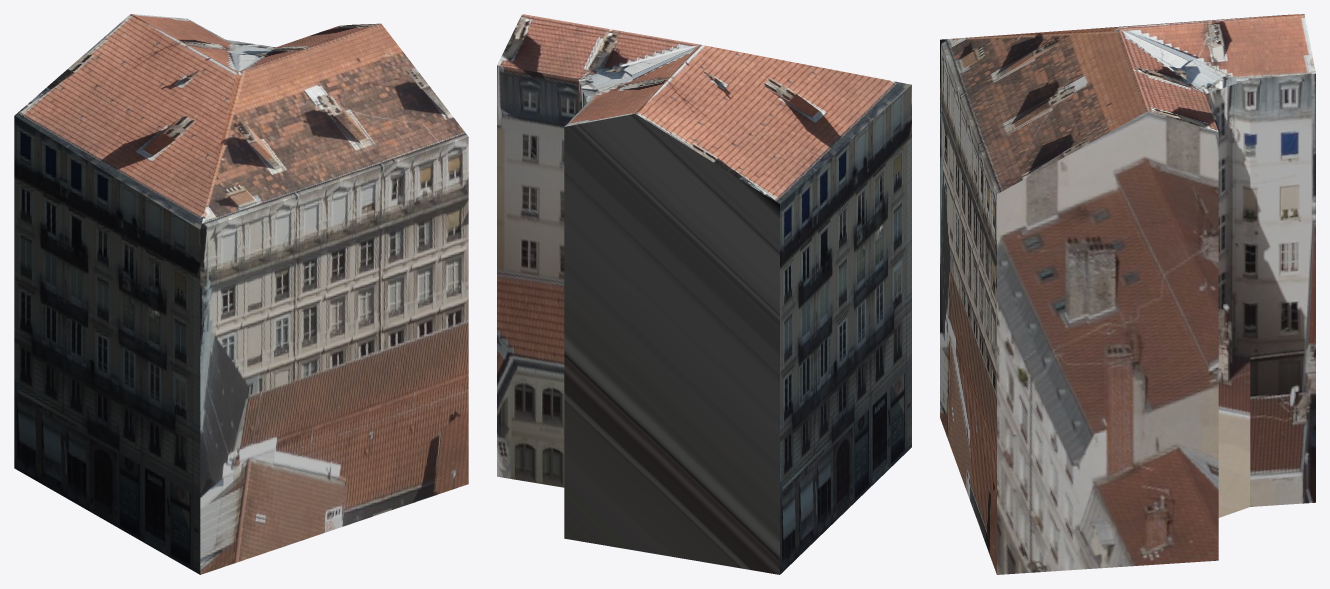
3 views of the same model, side by side, from view 1: azimuth 30°, elevation 25°; view 2: azimuth 150°, elevation 25°; view 3: azimuth 270°, elevation 25° (orthographic). The views are drawn at different scales.
Parts seen in each view (by area): view 1: Z_UP; view 2: Z_UP; view 3: Z_UP.
Part boxes in pixels (left/top/right/bottom): Z_UP: left=14, top=14, right=468, bottom=574; Z_UP: left=497, top=14, right=911, bottom=574; Z_UP: left=940, top=14, right=1315, bottom=574.
Bounding box in the file's own units: 24.1 × 29.51 × 22.08.
2 materials, 1 textured.
